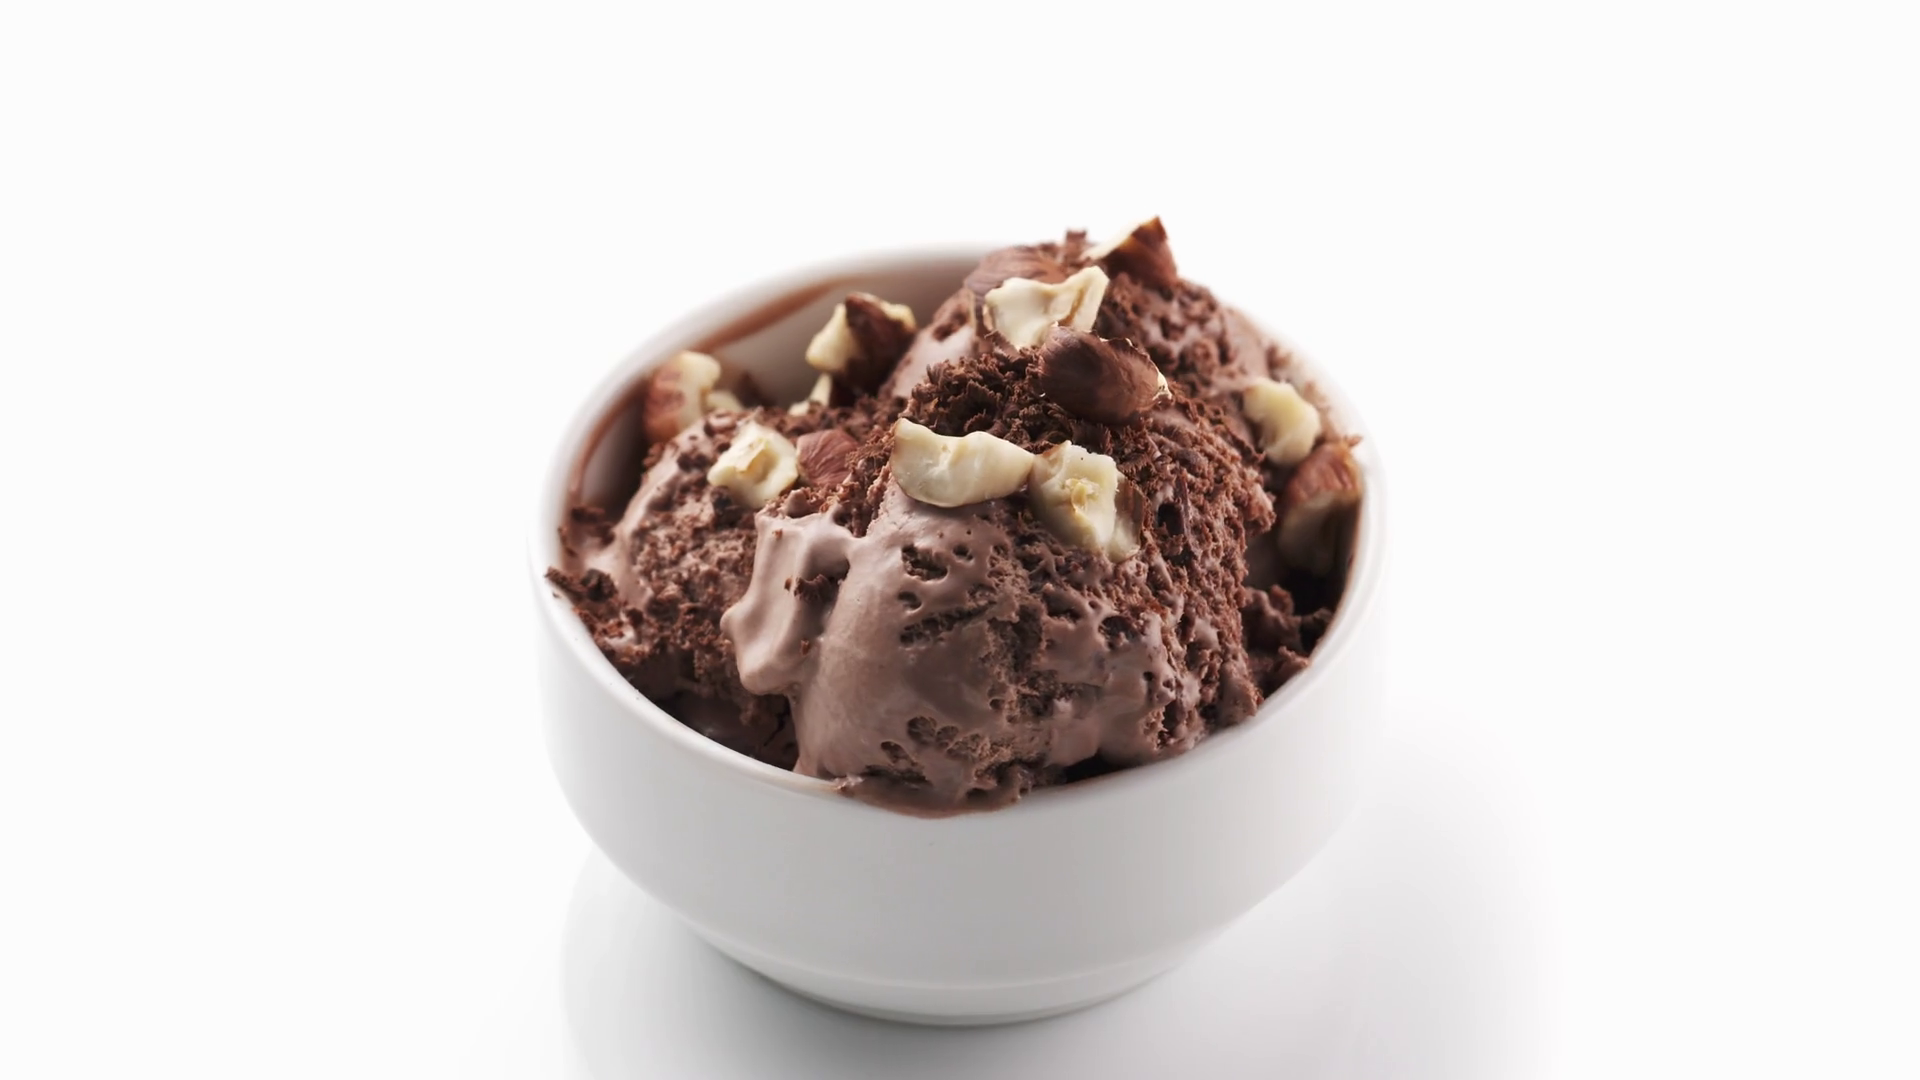ice-cream: (556, 228, 1360, 815)
